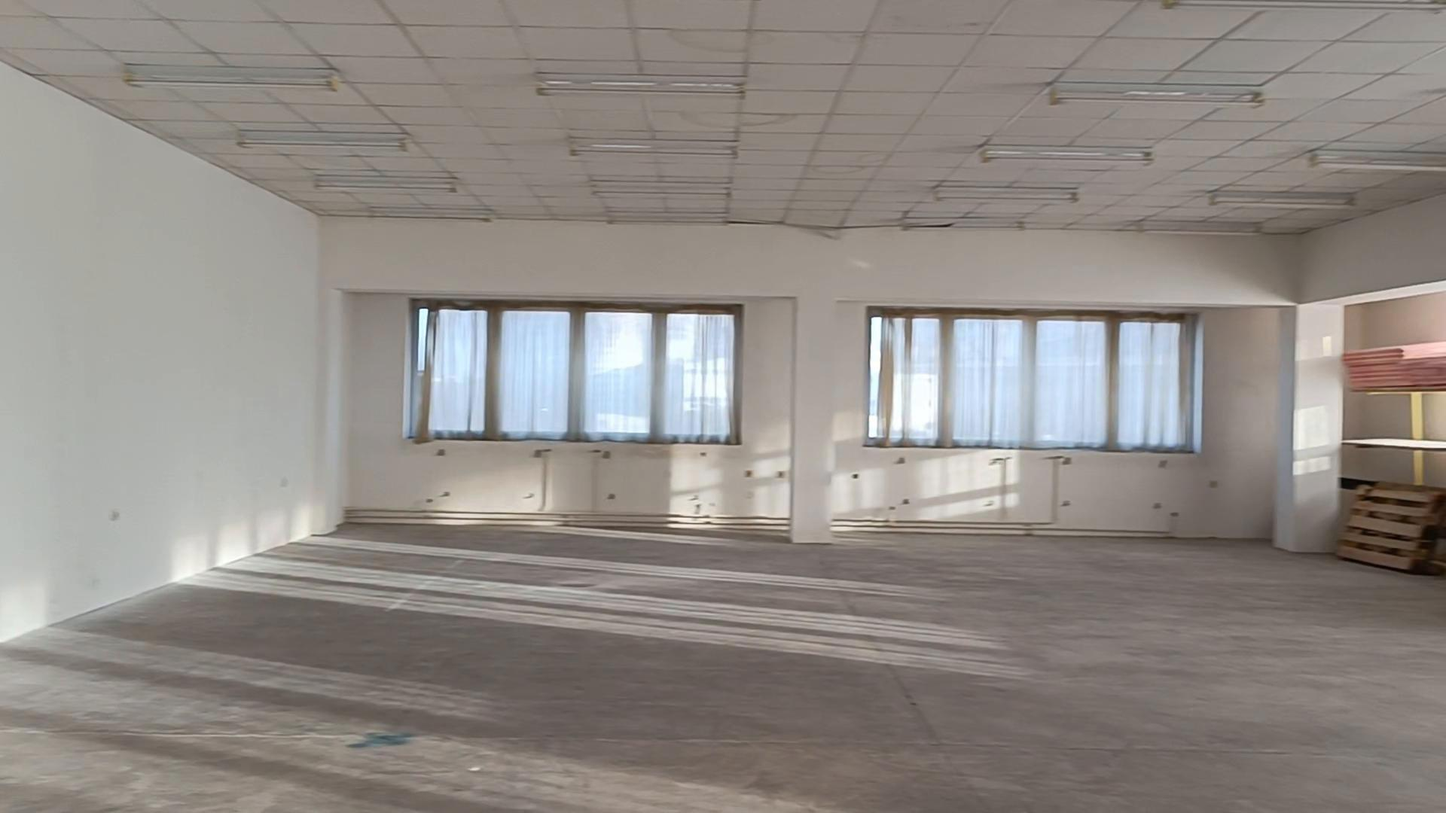ceiling: (0, 0, 1445, 232)
floor: (0, 525, 1445, 811)
wall: (4, 66, 1445, 641), (830, 306, 1289, 537), (345, 294, 787, 517)
